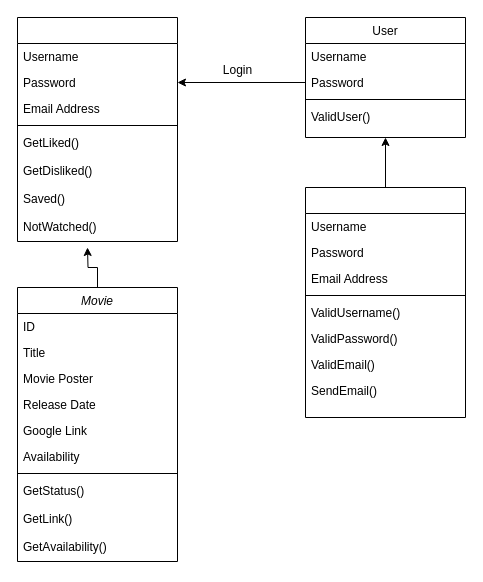
Some shapes in this 483 by 582 pixel diagram are drawn without their labels. Here are the shapes that lost their labels. From the top down, the box of each, then its label:
(16, 16, 178, 242): Account
(304, 186, 466, 418): SignUp
